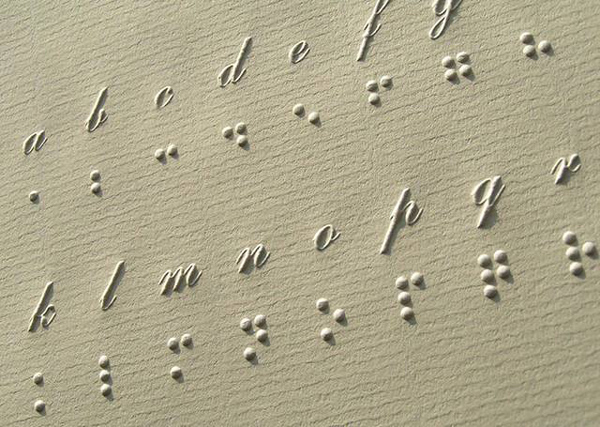Braille: (479, 246, 512, 300), (396, 270, 429, 322), (563, 227, 595, 278), (522, 29, 551, 75), (241, 314, 269, 360), (166, 334, 194, 379), (317, 297, 346, 340), (444, 48, 471, 93), (98, 353, 125, 397), (33, 371, 60, 413), (368, 74, 393, 112), (223, 120, 247, 159), (294, 100, 319, 137), (155, 141, 177, 179), (91, 168, 112, 203), (30, 188, 48, 221)
